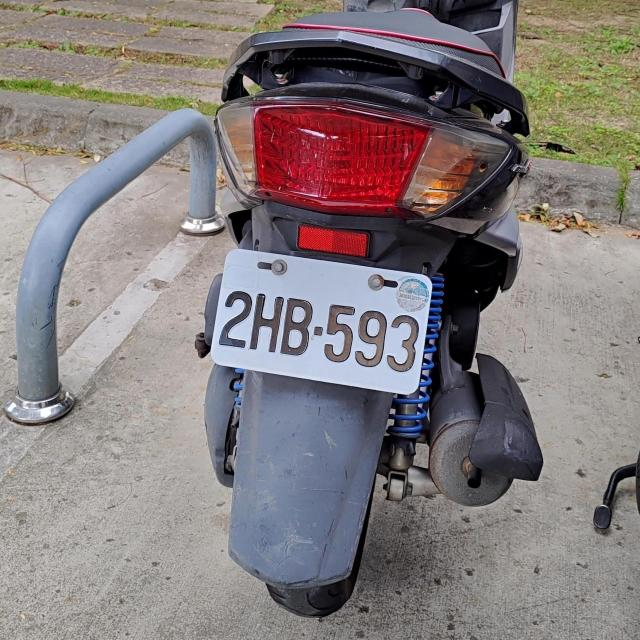W: (209, 250, 435, 391)
